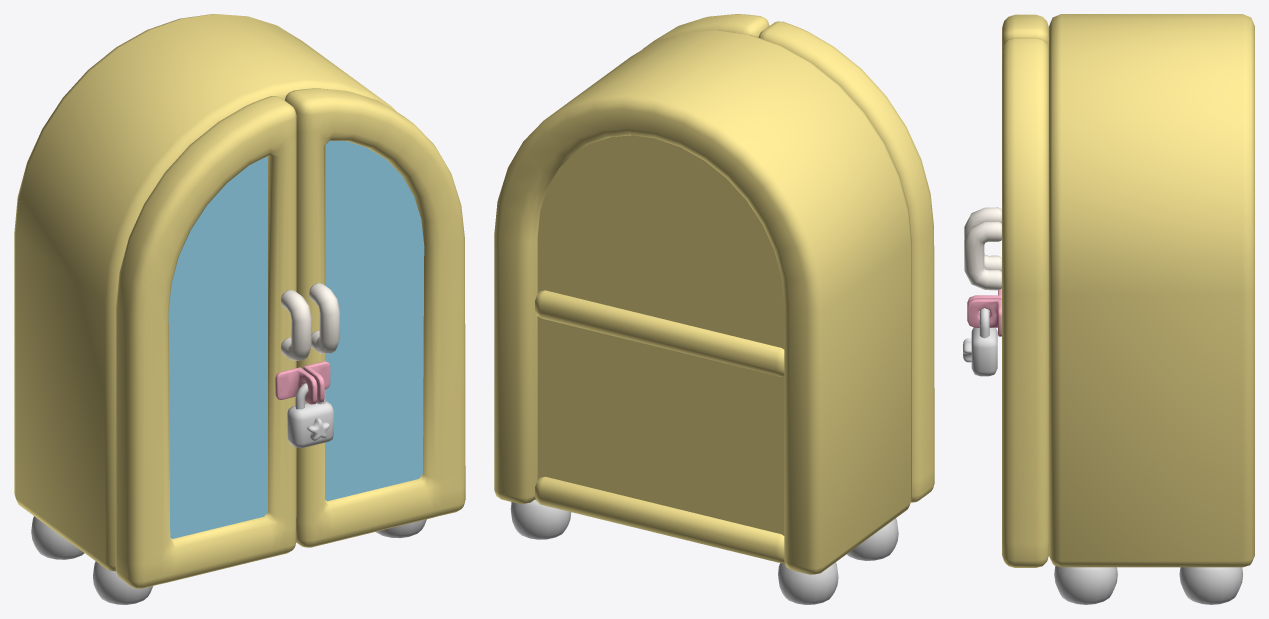
File: Cabinet.fbx
3 views of the same model, side by side, from view 1: azimuth 30°, elevation 25°; view 2: azimuth 150°, elevation 25°; view 3: azimuth 270°, elevation 25° (orthographic). The views are drawn at different scales.
Visible parts, largest first — view 1: CabinetLeftDoor, Cabinet, CabinetRightDoor, CabinetLeg, CabinetLock; view 2: Cabinet, CabinetLeftDoor, CabinetLeg, CabinetRightDoor; view 3: Cabinet, CabinetRightDoor, CabinetLeg, CabinetLeftDoor, CabinetLock.
Part boxes in pixels (x1=…): CabinetLeftDoor: x1=115, y1=96, x2=317, y2=588; Cabinet: x1=14, y1=14, x2=396, y2=571; CabinetRightDoor: x1=285, y1=88, x2=465, y2=547; CabinetLeg: x1=31, y1=516, x2=426, y2=604; CabinetLock: x1=287, y1=383, x2=333, y2=447; Cabinet: x1=494, y1=30, x2=911, y2=574; CabinetLeftDoor: x1=758, y1=21, x2=934, y2=502; CabinetLeg: x1=510, y1=500, x2=898, y2=604; CabinetRightDoor: x1=642, y1=14, x2=769, y2=49; Cabinet: x1=1049, y1=14, x2=1254, y2=567; CabinetRightDoor: x1=964, y1=37, x2=1048, y2=567; CabinetLeg: x1=1054, y1=565, x2=1242, y2=604; CabinetLeftDoor: x1=964, y1=14, x2=1048, y2=315; CabinetLock: x1=963, y1=308, x2=997, y2=376.
Size of the model in its own units: 1.3 by 1.8 by 0.9617.
